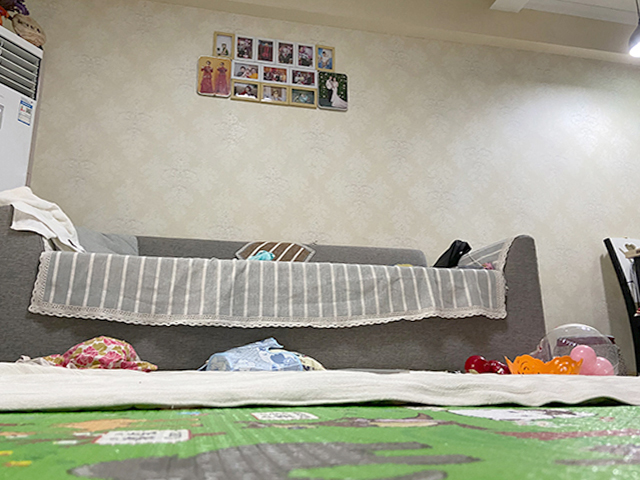sofa: (1, 204, 551, 372)
